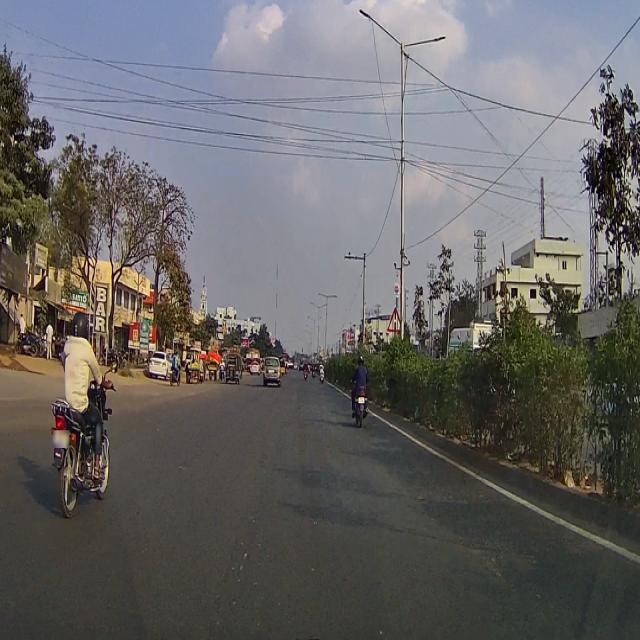gap-in-median: (386, 300, 402, 338)
